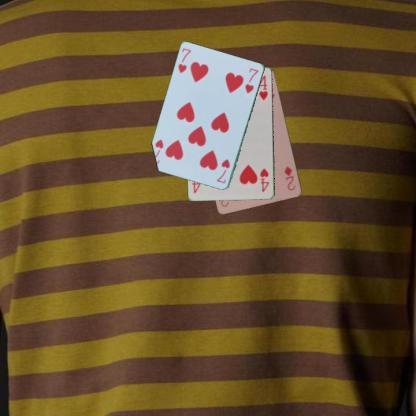2d: (282, 164, 296, 192)
4h: (258, 166, 270, 193)
7h: (214, 156, 231, 185), (176, 45, 192, 74)
